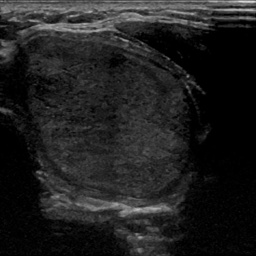mass: (20, 33, 196, 212)
